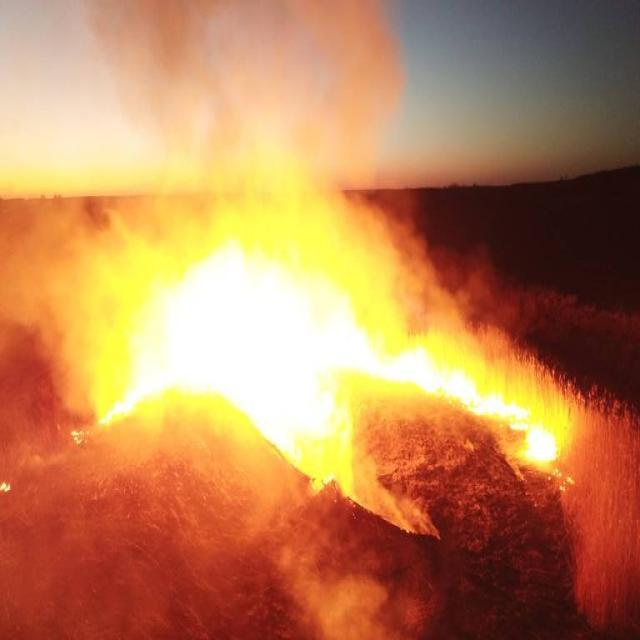Fire: (93, 178, 396, 456), (396, 347, 530, 432), (286, 422, 354, 499), (524, 421, 575, 494), (68, 426, 92, 448), (0, 479, 11, 494)
Smoke: (88, 0, 404, 172), (0, 202, 92, 413), (386, 213, 490, 339), (278, 544, 389, 640), (354, 456, 437, 536), (225, 448, 284, 537)
